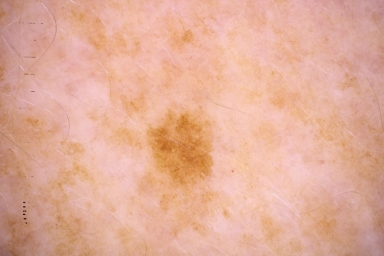melanoma: (151, 110, 211, 185)
